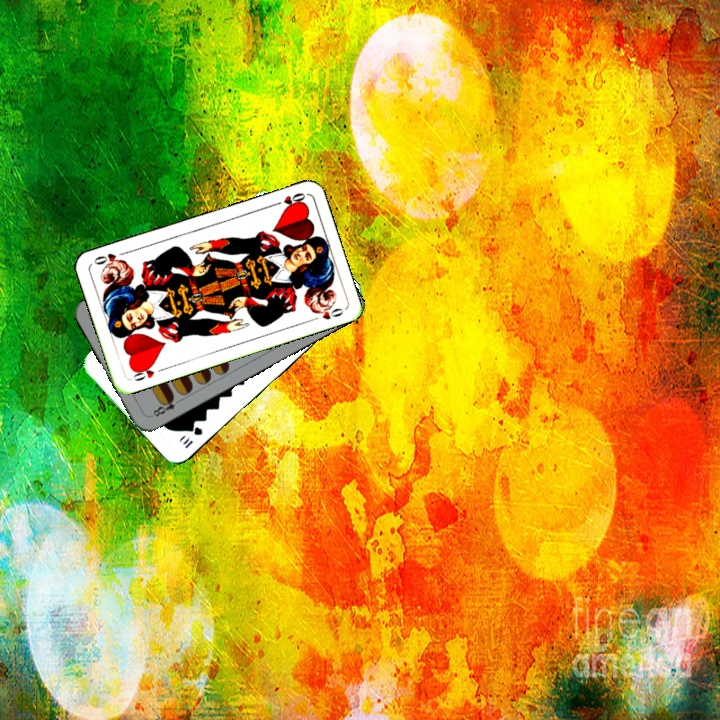E8: (147, 392, 184, 419)
G10: (179, 422, 205, 451)
HO: (129, 360, 167, 384), (268, 189, 308, 210)
